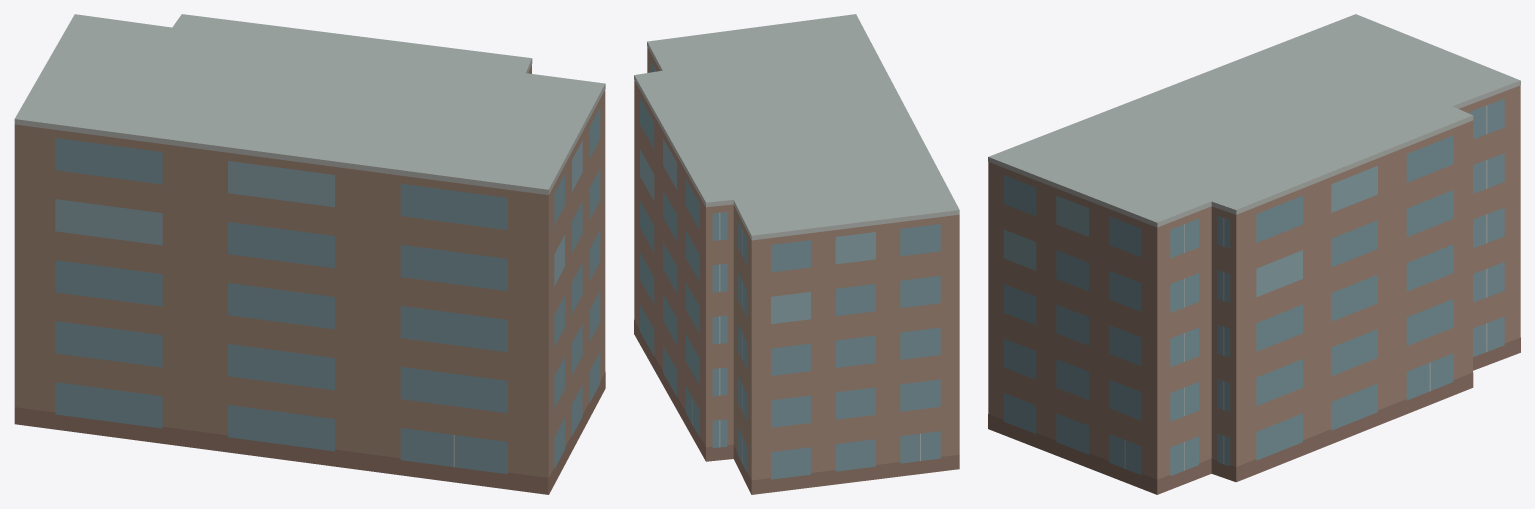
The model's file is survey-upis-32814409.glb.
3 renders of one model, left to right at view 1: azimuth 30°, elevation 25°; view 2: azimuth 150°, elevation 25°; view 3: azimuth 270°, elevation 25°, orthographic. The views are drawn at different scales.
Parts seen in each view (by area): view 1: survey-upis-32814409.tmp; view 2: survey-upis-32814409.tmp; view 3: survey-upis-32814409.tmp.
Boxes of the visible parts, bbox=[...] form: survey-upis-32814409.tmp: bbox=[14, 14, 605, 494]; survey-upis-32814409.tmp: bbox=[634, 14, 959, 494]; survey-upis-32814409.tmp: bbox=[988, 14, 1520, 494].
Bounding box in the file's own units: 22.64 × 13.76 × 24.41.
